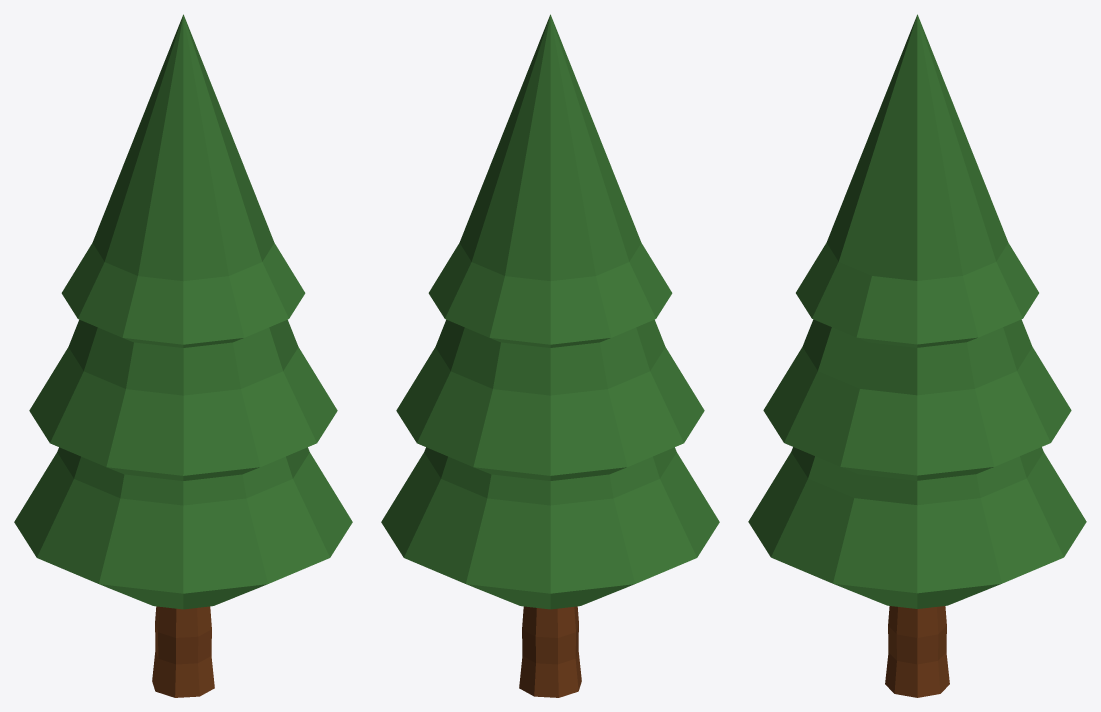
The model's file is SM_Tree.fbx.
3 renders of one model, left to right at view 1: azimuth 30°, elevation 25°; view 2: azimuth 150°, elevation 25°; view 3: azimuth 270°, elevation 25°, orthographic.
Visible parts, largest first — view 1: Leaves, Tree; view 2: Leaves, Tree; view 3: Leaves, Tree.
Boxes of the visible parts, x1,y1,x2,y2 form: Leaves: [14, 14, 352, 609]; Tree: [152, 606, 214, 697]; Leaves: [381, 14, 719, 609]; Tree: [519, 606, 581, 697]; Leaves: [748, 14, 1086, 608]; Tree: [885, 606, 949, 697].
Bounding box in the file's own units: 137 × 300 × 137.
